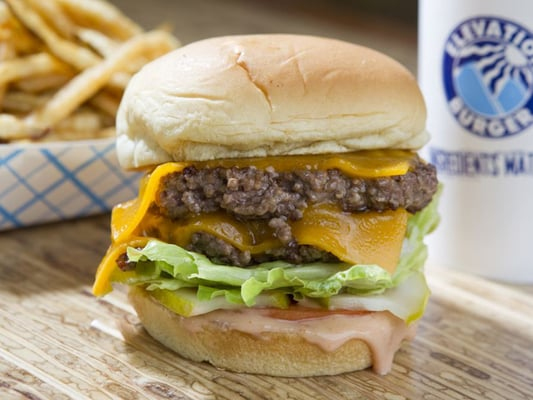pizza: (418, 0, 533, 158)
soup: (92, 31, 447, 382)
